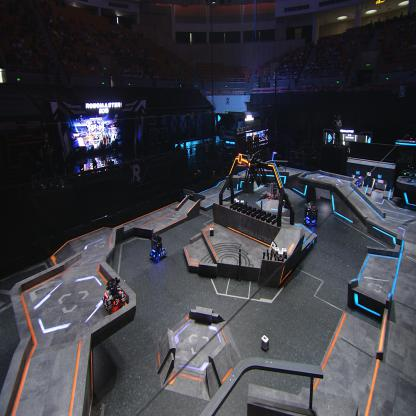car: (102, 275, 127, 314), (148, 232, 168, 262), (303, 202, 318, 228), (267, 181, 279, 199), (278, 190, 290, 208), (354, 175, 362, 188)
